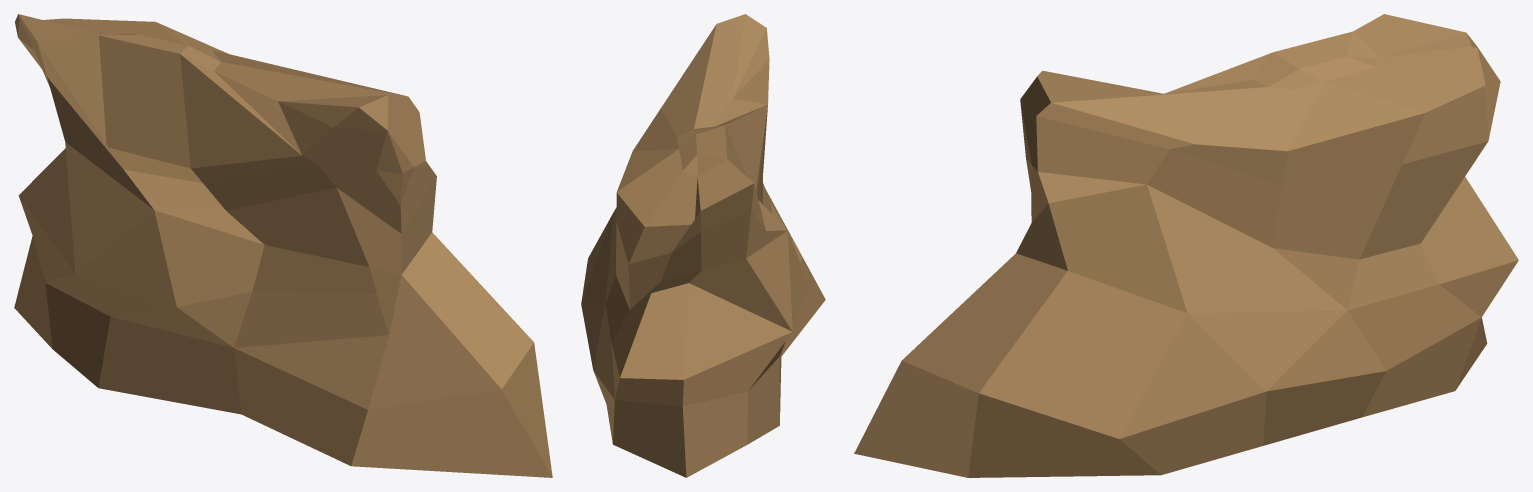
The model's file is Mountain_low2.fbx.
3 views of the same model, side by side, from view 1: azimuth 30°, elevation 25°; view 2: azimuth 150°, elevation 25°; view 3: azimuth 270°, elevation 25° (orthographic). The views are drawn at different scales.
Visible parts, largest first — view 1: polySurface8; view 2: polySurface8; view 3: polySurface8.
Part boxes in pixels (bbox=[...]): polySurface8: bbox=[14, 14, 552, 477]; polySurface8: bbox=[581, 14, 825, 477]; polySurface8: bbox=[854, 14, 1518, 477].
Size of the model in its own units: 5.94 by 6 by 10.33.
